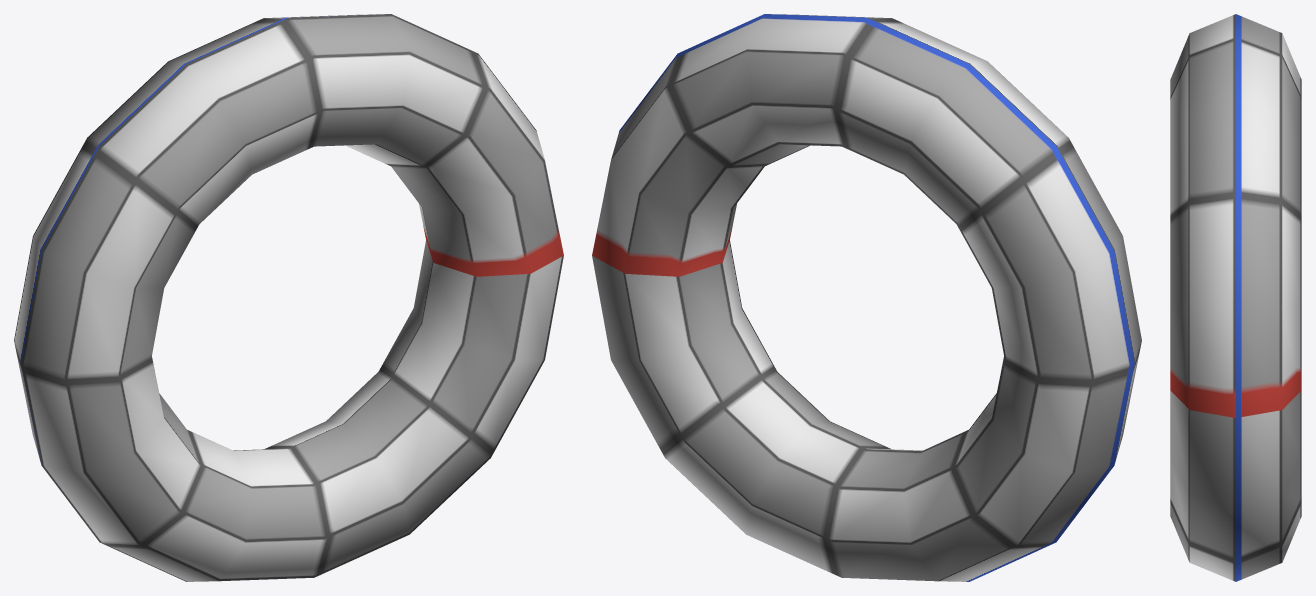
3 views of the same model, side by side, from view 1: azimuth 30°, elevation 25°; view 2: azimuth 150°, elevation 25°; view 3: azimuth 270°, elevation 25° (orthographic). The views are drawn at different scales.
Parts seen in each view (by area): view 1: torus; view 2: torus; view 3: torus.
Part boxes in pixels (x1,y1,x2,y2): torus: [14, 14, 563, 581]; torus: [592, 14, 1141, 581]; torus: [1170, 14, 1301, 581].
Size of the model in its own units: 2.6 by 2.6 by 0.6.
1 material, 1 textured.
